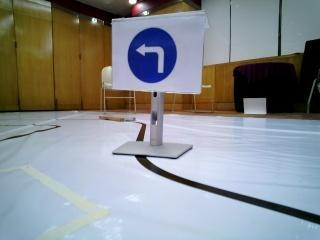left: (119, 27, 194, 88)
